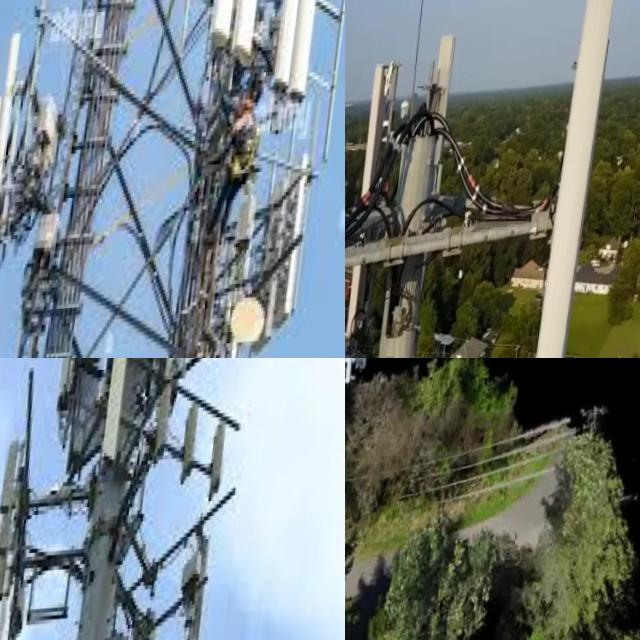GSM Antenna: (546, 0, 620, 358), (349, 59, 411, 346), (284, 153, 323, 335), (0, 31, 31, 232), (99, 358, 139, 468), (271, 0, 309, 106), (187, 537, 225, 640), (294, 0, 329, 101), (0, 85, 14, 298), (202, 0, 254, 57), (239, 0, 280, 66), (211, 413, 237, 512), (182, 407, 208, 496), (5, 438, 28, 521), (155, 384, 180, 459), (0, 599, 23, 640), (2, 556, 25, 595), (143, 609, 171, 640), (345, 358, 360, 394), (345, 510, 348, 555)
Microwave Antenna: (233, 287, 277, 358)
